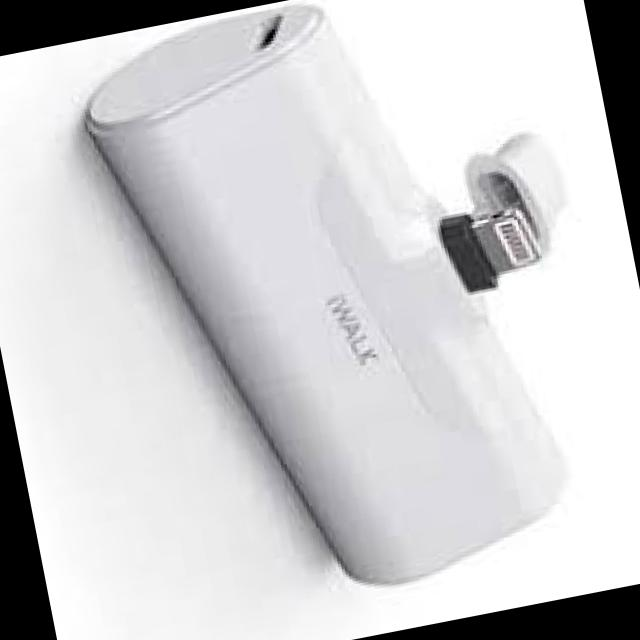power_bank: (65, 0, 628, 629)
